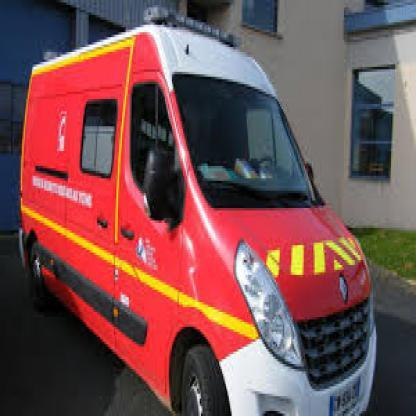Ambulance - v1 Ambulance last generate: (11, 22, 391, 409)
